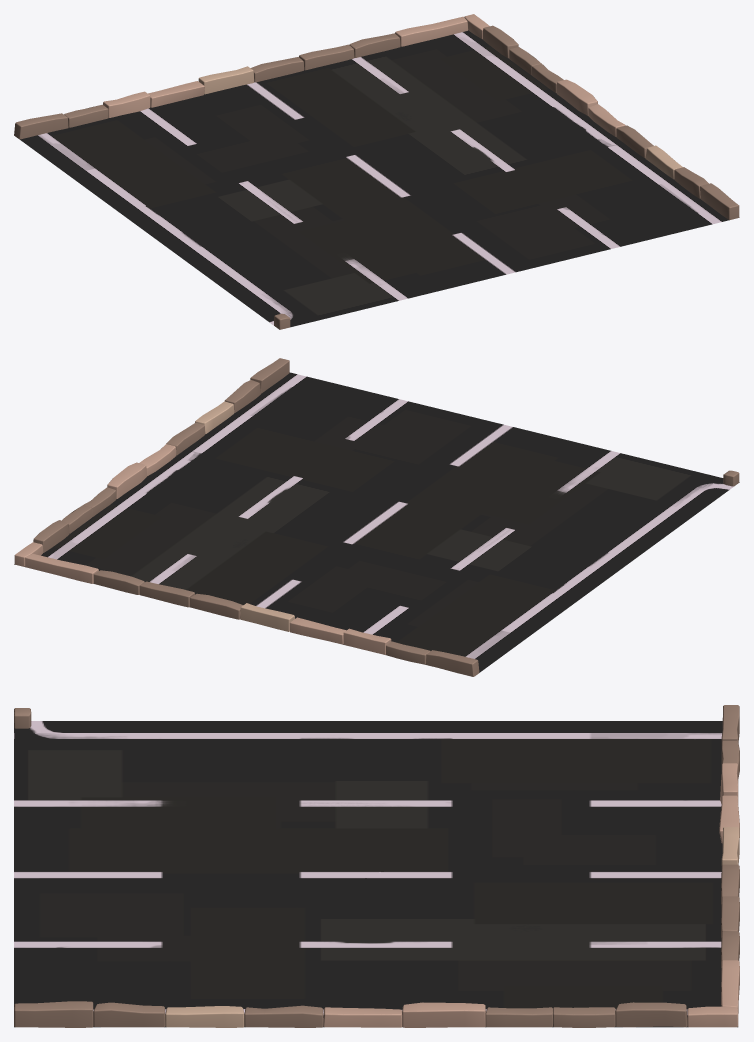
Rendered from CityRoad_90turnWide_1.fbx.
3 views of the same model, one above another, from view 1: azimuth 30°, elevation 25°; view 2: azimuth 150°, elevation 25°; view 3: azimuth 270°, elevation 25° (orthographic). The views are drawn at different scales.
Visible parts, largest first — view 1: CityRoad_90turnWide_1_mesh; view 2: CityRoad_90turnWide_1_mesh; view 3: CityRoad_90turnWide_1_mesh.
Part boxes in pixels (x1,y1,x2,y2): CityRoad_90turnWide_1_mesh: (14,14,739,329); CityRoad_90turnWide_1_mesh: (14,358,739,676); CityRoad_90turnWide_1_mesh: (14,705,739,1027).
Size of the model in its own units: 1006 by 28.55 by 1002.
